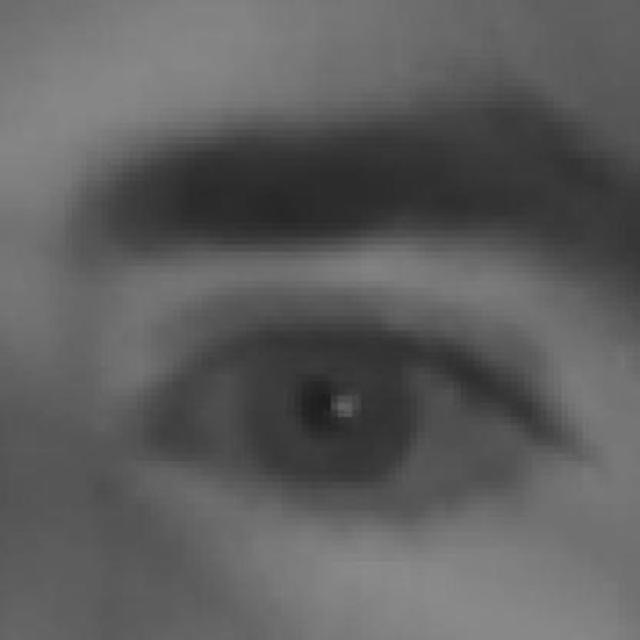awake: (145, 305, 550, 526)
